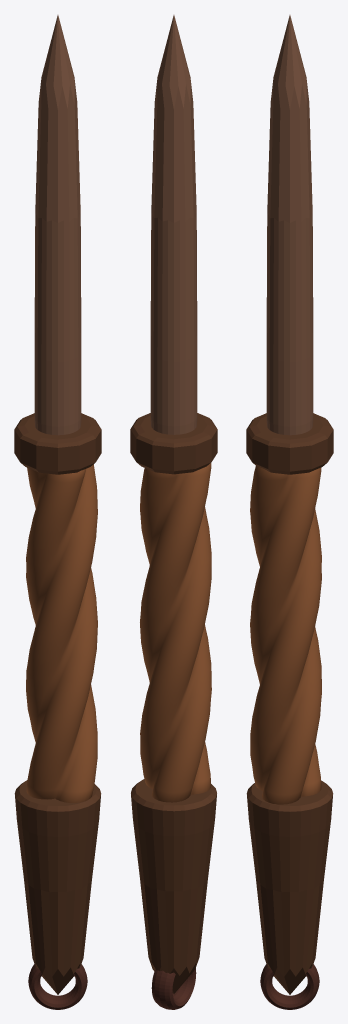
File: Wand 801.glb
3 views of the same model, side by side, from view 1: azimuth 90°, elevation 25°; view 2: azimuth 150°, elevation 25°; view 3: azimuth 270°, elevation 25° (orthographic).
Parts seen in each view (by area): view 1: GeneratedWand; view 2: GeneratedWand; view 3: GeneratedWand.
Part boxes in pixels (x1=…): GeneratedWand: x1=14, y1=15, x2=101, y2=1009; GeneratedWand: x1=130, y1=15, x2=217, y2=1009; GeneratedWand: x1=246, y1=15, x2=333, y2=1009.
Size of the model in its own units: 0.0398 by 0.5 by 0.0398.
